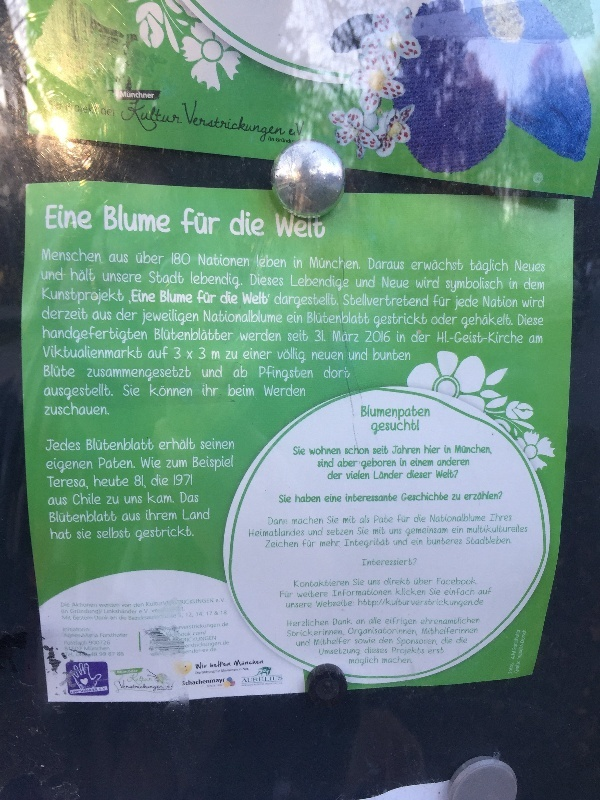text: (193, 96, 208, 138), (209, 96, 224, 138), (225, 96, 240, 138), (241, 96, 256, 138), (257, 96, 272, 138), (129, 99, 144, 139), (145, 99, 160, 139), (161, 99, 176, 139), (273, 96, 286, 138), (145, 623, 160, 659), (161, 623, 176, 659), (177, 623, 192, 659), (193, 623, 208, 659), (209, 623, 224, 659), (241, 206, 256, 241), (49, 200, 64, 234), (65, 200, 80, 234), (193, 204, 208, 238), (113, 204, 128, 237), (129, 204, 144, 237), (145, 204, 160, 237), (289, 210, 304, 242), (305, 210, 320, 242), (65, 626, 80, 658), (81, 626, 96, 658), (97, 626, 112, 658), (113, 626, 128, 658), (274, 210, 288, 242), (81, 200, 93, 234), (209, 204, 221, 238), (161, 204, 173, 237), (181, 204, 192, 238), (230, 206, 240, 241), (184, 96, 192, 138), (49, 98, 64, 120), (65, 98, 80, 120), (81, 98, 96, 120), (97, 98, 112, 120), (257, 206, 266, 241), (49, 245, 64, 266), (65, 245, 80, 266), (81, 245, 96, 266), (49, 324, 64, 345), (65, 324, 80, 345), (81, 324, 96, 345), (97, 324, 112, 345), (113, 324, 128, 345), (129, 324, 144, 345), (449, 256, 465, 275), (97, 382, 113, 401), (209, 251, 224, 271), (225, 251, 240, 271), (257, 251, 272, 271), (193, 270, 208, 290), (209, 270, 224, 290), (225, 270, 240, 290), (289, 290, 304, 310), (305, 290, 320, 310), (321, 290, 336, 310), (145, 307, 160, 327), (161, 307, 176, 327), (177, 307, 192, 327), (273, 364, 288, 384), (289, 364, 304, 384), (290, 117, 304, 138), (177, 249, 191, 270), (321, 254, 336, 273), (337, 254, 352, 273), (417, 256, 432, 275), (433, 256, 448, 275), (481, 257, 496, 276), (161, 269, 176, 288), (305, 273, 320, 292), (321, 273, 336, 292), (49, 286, 64, 305), (65, 286, 80, 305), (81, 286, 96, 305), (97, 286, 112, 305), (49, 382, 64, 401), (65, 382, 80, 401), (81, 382, 96, 401), (121, 99, 128, 139), (177, 99, 184, 139), (273, 251, 287, 271), (113, 250, 129, 267), (177, 288, 193, 305), (497, 313, 513, 330), (369, 255, 384, 273), (385, 255, 400, 273), (113, 269, 128, 287), (497, 293, 512, 311), (49, 344, 64, 362), (65, 344, 80, 362), (81, 344, 96, 362), (97, 344, 112, 362), (113, 344, 128, 362), (104, 204, 112, 237), (275, 290, 288, 310), (259, 364, 272, 384), (529, 276, 545, 292), (529, 295, 545, 311), (177, 383, 193, 399), (145, 455, 161, 471), (529, 259, 544, 276), (49, 267, 64, 284), (81, 267, 96, 284), (257, 273, 272, 290), (161, 288, 176, 305), (353, 291, 368, 308), (369, 291, 384, 308), (385, 291, 400, 308), (401, 291, 416, 308), (49, 305, 64, 322), (65, 305, 80, 322), (209, 308, 224, 325), (225, 308, 240, 325), (241, 308, 256, 325), (257, 308, 272, 325), (385, 312, 400, 329), (401, 312, 416, 329), (465, 313, 480, 330), (481, 313, 496, 330), (161, 326, 176, 343), (177, 326, 192, 343), (193, 326, 208, 343), (209, 326, 224, 343), (337, 328, 352, 345), (385, 347, 400, 364), (49, 363, 64, 380), (97, 366, 112, 383), (113, 366, 128, 383), (129, 366, 144, 383), (145, 366, 160, 383), (161, 366, 176, 383), (177, 366, 192, 383), (161, 436, 176, 453), (177, 436, 192, 453), (193, 455, 208, 472), (209, 455, 224, 472), (193, 506, 208, 523), (369, 403, 384, 420), (385, 403, 400, 420), (401, 403, 416, 420), (465, 295, 479, 313), (129, 344, 143, 362), (291, 273, 304, 292), (337, 273, 350, 292), (385, 275, 400, 291), (449, 277, 464, 293), (465, 277, 480, 293), (481, 277, 496, 293), (321, 310, 336, 326), (337, 310, 352, 326), (353, 310, 368, 326), (369, 329, 384, 345), (449, 329, 464, 345), (465, 329, 480, 345), (481, 329, 496, 345), (497, 329, 512, 345), (289, 348, 304, 364), (209, 364, 224, 380), (161, 383, 176, 399), (65, 438, 81, 453), (49, 457, 64, 473), (65, 457, 80, 473), (49, 475, 64, 491), (65, 475, 80, 491), (177, 473, 193, 488), (49, 509, 64, 525), (65, 509, 80, 525), (81, 509, 96, 525), (97, 509, 112, 525), (145, 526, 160, 542), (161, 526, 176, 542), (177, 526, 192, 542), (385, 420, 400, 436), (401, 420, 416, 436), (514, 259, 528, 276), (241, 382, 255, 399), (129, 269, 142, 287), (483, 293, 496, 311), (323, 364, 336, 382), (337, 364, 350, 382), (497, 257, 509, 276), (148, 269, 160, 288), (113, 286, 125, 305), (145, 251, 160, 266), (289, 329, 304, 344), (273, 384, 288, 399), (289, 384, 304, 399), (49, 402, 64, 417), (65, 402, 80, 417), (81, 402, 96, 417), (49, 438, 64, 453), (209, 438, 224, 453), (113, 456, 128, 471), (321, 210, 328, 242), (242, 291, 256, 307), (113, 474, 129, 488), (161, 509, 177, 523), (177, 607, 193, 621), (131, 288, 144, 305), (227, 382, 240, 399), (417, 403, 430, 420), (197, 251, 208, 271), (241, 251, 252, 271), (433, 294, 448, 308), (289, 311, 303, 326), (433, 313, 448, 327), (241, 330, 256, 344), (257, 330, 272, 344), (417, 330, 431, 345), (321, 349, 336, 363), (97, 438, 112, 452), (113, 438, 128, 452), (129, 438, 144, 452), (98, 456, 112, 471), (97, 474, 112, 488), (161, 490, 175, 505), (145, 509, 160, 523), (50, 526, 64, 541), (353, 490, 368, 504), (369, 490, 384, 504), (65, 607, 80, 621), (81, 607, 96, 621), (97, 607, 112, 621), (113, 607, 128, 621), (129, 607, 144, 621), (145, 607, 160, 621), (161, 607, 176, 621), (469, 257, 480, 276), (257, 291, 270, 307), (307, 310, 320, 326), (147, 345, 160, 361), (257, 348, 273, 361), (81, 457, 94, 473), (371, 420, 384, 436), (401, 555, 417, 568), (273, 273, 285, 290), (417, 291, 429, 308), (529, 313, 543, 327), (129, 88, 144, 101), (417, 277, 432, 290), (225, 290, 238, 305), (353, 349, 368, 362), (97, 402, 110, 417), (81, 493, 96, 506), (147, 490, 160, 505), (97, 528, 112, 541), (113, 528, 128, 541), (465, 443, 480, 456), (385, 468, 400, 481), (305, 492, 320, 505), (257, 527, 272, 540), (273, 527, 288, 540), (289, 527, 304, 540), (417, 525, 432, 538), (433, 525, 448, 538), (369, 555, 384, 568), (385, 555, 400, 568), (145, 596, 160, 609), (161, 596, 176, 609), (177, 596, 192, 609), (193, 596, 208, 609), (209, 596, 224, 609), (196, 289, 208, 305), (436, 329, 448, 345), (433, 490, 449, 502), (401, 626, 417, 638), (310, 254, 320, 273), (69, 267, 80, 284), (145, 288, 156, 305), (417, 312, 428, 329), (373, 347, 384, 364), (65, 363, 76, 380), (321, 457, 335, 470), (385, 490, 398, 504), (102, 269, 112, 287), (356, 275, 368, 290), (454, 295, 464, 313), (97, 310, 112, 322), (116, 307, 128, 322), (529, 334, 544, 346), (401, 444, 416, 456), (369, 458, 384, 470), (417, 456, 432, 468), (449, 457, 464, 469), (353, 470, 368, 482), (417, 490, 432, 502), (465, 490, 480, 502), (481, 490, 496, 502), (305, 578, 320, 590), (321, 578, 336, 590), (401, 597, 416, 609), (417, 597, 432, 609), (433, 597, 448, 609), (449, 597, 464, 609), (465, 597, 480, 609), (289, 617, 304, 629), (305, 617, 320, 629), (353, 626, 368, 638), (369, 626, 384, 638), (385, 626, 400, 638), (369, 645, 384, 657), (129, 680, 144, 692), (145, 680, 160, 692), (225, 623, 230, 659), (293, 255, 304, 271), (513, 329, 524, 345), (277, 348, 288, 364), (149, 383, 160, 399), (273, 516, 289, 527), (353, 254, 362, 273), (273, 308, 283, 325), (374, 312, 384, 329), (225, 326, 235, 343), (401, 347, 411, 364), (182, 506, 192, 523), (243, 348, 256, 361), (402, 490, 416, 502), (386, 597, 400, 609), (129, 384, 140, 399), (49, 496, 64, 507), (321, 445, 336, 456), (497, 511, 512, 522), (481, 525, 496, 536), (497, 525, 512, 536), (321, 538, 336, 549), (353, 538, 368, 549), (369, 538, 384, 549), (481, 536, 496, 547), (497, 536, 512, 547), (385, 576, 400, 587), (449, 576, 464, 587), (401, 586, 416, 597), (401, 646, 416, 657), (305, 364, 313, 384), (353, 446, 369, 456), (401, 617, 417, 627), (211, 349, 224, 361), (180, 491, 192, 504), (435, 469, 448, 481), (337, 578, 350, 590), (517, 313, 528, 327), (226, 350, 240, 361), (129, 494, 143, 505), (81, 526, 92, 540), (338, 458, 352, 469), (466, 525, 480, 536), (513, 525, 527, 536), (466, 536, 480, 547), (465, 576, 479, 587), (343, 291, 352, 308), (87, 366, 96, 383), (225, 455, 234, 472), (177, 269, 185, 288), (209, 383, 219, 398), (225, 438, 235, 453), (417, 469, 432, 479), (305, 516, 320, 526), (433, 513, 448, 523), (449, 513, 464, 523), (465, 513, 480, 523), (273, 540, 288, 550), (433, 537, 448, 547), (353, 577, 368, 587), (337, 588, 352, 598), (353, 588, 368, 598), (369, 588, 384, 598), (289, 600, 304, 610), (337, 617, 352, 627), (385, 617, 400, 627), (321, 637, 336, 647), (401, 637, 416, 647), (417, 637, 432, 647), (321, 646, 336, 656), (337, 646, 352, 656), (353, 656, 368, 666), (41, 245, 48, 266), (41, 324, 48, 345), (401, 275, 410, 291), (135, 526, 144, 542), (436, 457, 448, 469), (337, 528, 353, 537), (417, 578, 433, 587), (161, 680, 173, 692), (209, 677, 225, 686), (177, 458, 188, 471), (481, 443, 492, 456), (451, 491, 464, 502), (451, 525, 464, 536), (193, 307, 200, 327), (86, 438, 96, 452), (134, 475, 144, 489), (449, 537, 463, 547), (337, 637, 351, 647), (135, 251, 144, 266), (129, 307, 138, 322), (199, 345, 208, 360), (263, 384, 272, 399), (151, 473, 160, 488), (305, 590, 320, 599), (449, 588, 464, 597), (321, 599, 336, 608), (337, 599, 352, 608), (433, 617, 448, 626), (449, 617, 464, 626), (465, 617, 480, 626), (289, 629, 304, 638), (305, 629, 320, 638), (321, 629, 336, 638), (433, 626, 448, 635), (449, 626, 464, 635), (193, 677, 208, 686), (241, 658, 256, 667), (129, 511, 140, 523), (293, 444, 304, 456), (385, 458, 396, 470), (308, 527, 320, 538), (369, 577, 381, 588), (145, 88, 155, 101), (166, 458, 176, 471), (454, 443, 464, 456), (374, 468, 384, 481), (291, 516, 304, 526), (406, 525, 416, 538), (209, 289, 217, 305), (161, 345, 169, 361), (241, 364, 249, 380), (81, 475, 89, 491), (97, 245, 103, 266), (170, 249, 176, 270), (449, 313, 458, 327), (273, 330, 282, 344), (311, 349, 320, 363), (145, 438, 154, 452), (309, 445, 320, 456), (325, 493, 336, 504), (437, 576, 448, 587), (357, 598, 368, 609), (276, 135, 288, 145), (200, 438, 208, 453), (161, 473, 169, 488), (449, 469, 459, 481), (372, 526, 384, 536), (294, 578, 304, 590), (369, 618, 384, 626), (385, 657, 400, 665), (81, 687, 96, 695), (129, 676, 144, 684), (118, 680, 128, 692), (41, 267, 48, 284), (41, 305, 48, 322), (81, 305, 88, 322), (361, 403, 368, 420), (279, 492, 288, 505), (295, 492, 304, 505), (465, 626, 478, 635), (42, 286, 48, 305), (497, 277, 504, 293), (233, 364, 240, 380), (81, 602, 97, 609), (210, 661, 224, 669), (374, 514, 384, 525), (401, 513, 411, 524), (357, 526, 368, 536), (327, 470, 336, 482), (327, 514, 336, 526), (417, 511, 426, 523), (481, 588, 493, 597), (420, 617, 432, 626), (433, 647, 445, 656), (369, 275, 376, 290), (129, 456, 136, 471), (65, 526, 72, 541), (209, 669, 224, 676), (225, 669, 240, 676), (209, 610, 224, 617), (120, 88, 128, 101), (72, 493, 80, 506), (45, 200, 48, 234), (250, 273, 256, 290), (154, 326, 160, 343), (353, 328, 359, 345), (406, 469, 416, 479), (289, 540, 299, 550), (369, 656, 379, 666), (373, 446, 384, 455), (389, 527, 400, 536), (305, 539, 316, 548), (401, 576, 410, 587), (417, 586, 426, 597), (369, 598, 378, 609), (421, 626, 432, 635), (417, 646, 426, 657), (337, 349, 344, 363), (345, 490, 352, 504), (354, 637, 368, 644), (522, 295, 528, 311), (385, 329, 391, 345), (202, 364, 208, 380), (392, 444, 400, 456), (424, 443, 432, 455), (433, 443, 441, 455), (321, 617, 329, 629), (411, 256, 416, 275), (433, 277, 440, 290), (113, 494, 120, 507), (193, 491, 200, 504), (249, 527, 256, 540), (361, 555, 368, 568), (513, 293, 518, 311), (314, 330, 320, 345), (43, 344, 48, 362), (202, 383, 208, 398), (465, 588, 475, 597), (241, 676, 256, 682), (257, 676, 272, 682), (385, 514, 393, 525), (280, 589, 288, 600), (392, 646, 400, 657), (401, 657, 412, 665), (97, 687, 108, 695), (203, 308, 208, 325), (401, 331, 407, 345), (361, 458, 368, 470), (356, 619, 368, 626), (196, 669, 208, 676), (98, 603, 112, 609), (196, 610, 208, 617), (343, 516, 352, 525), (327, 528, 336, 537), (385, 637, 394, 646), (183, 677, 192, 686), (360, 514, 368, 524), (305, 600, 313, 610), (456, 636, 464, 646), (353, 646, 361, 656), (106, 494, 112, 507), (195, 663, 208, 669), (345, 538, 352, 549), (417, 537, 424, 548), (44, 382, 48, 401), (161, 251, 166, 266), (321, 330, 326, 345), (411, 330, 416, 345), (177, 346, 182, 361), (123, 384, 128, 399), (401, 255, 405, 273), (122, 511, 128, 523), (401, 457, 407, 469), (410, 456, 416, 468), (337, 470, 343, 482), (346, 470, 352, 482), (497, 490, 503, 502), (321, 590, 329, 599), (296, 639, 304, 648), (71, 687, 80, 695), (116, 669, 128, 675), (513, 277, 518, 291), (345, 446, 352, 456), (385, 588, 392, 598), (441, 636, 448, 646), (44, 363, 48, 380), (337, 493, 343, 504), (490, 511, 496, 522), (524, 276, 528, 292), (140, 455, 144, 471), (113, 509, 117, 525), (417, 420, 421, 436), (145, 676, 153, 684), (62, 626, 64, 658), (145, 324, 148, 345), (297, 590, 304, 599), (433, 588, 440, 597), (337, 629, 344, 638), (257, 658, 264, 667), (189, 270, 192, 290), (220, 290, 224, 305), (305, 329, 309, 344), (44, 402, 48, 417), (465, 457, 470, 469), (481, 513, 487, 523), (266, 540, 272, 550), (426, 537, 432, 547), (314, 637, 320, 647), (129, 669, 139, 675), (241, 684, 256, 688), (257, 684, 272, 688), (209, 685, 224, 689), (134, 602, 144, 608), (396, 331, 400, 345), (393, 538, 400, 546), (401, 538, 408, 546), (72, 602, 80, 609), (337, 445, 342, 456), (353, 458, 358, 469), (385, 538, 390, 549), (411, 537, 416, 548), (289, 589, 294, 600), (305, 639, 311, 648), (273, 676, 282, 682), (234, 658, 240, 667), (97, 493, 101, 506), (289, 492, 293, 505), (109, 250, 112, 267), (461, 313, 464, 330), (333, 328, 336, 345), (193, 436, 196, 453), (289, 135, 294, 145), (433, 637, 438, 647), (449, 636, 454, 646), (369, 637, 376, 644), (241, 669, 248, 676), (121, 602, 128, 609), (92, 310, 96, 322), (365, 329, 368, 345), (417, 444, 421, 456), (444, 443, 448, 455), (481, 597, 485, 609), (348, 626, 352, 638), (364, 645, 368, 657), (225, 661, 231, 669), (173, 346, 176, 361), (173, 473, 176, 488), (379, 637, 384, 646), (113, 98, 115, 120), (124, 494, 128, 505), (268, 516, 272, 527), (337, 538, 341, 549), (396, 586, 400, 597), (273, 684, 284, 688), (509, 277, 512, 291), (93, 474, 96, 488), (77, 526, 80, 540), (61, 607, 64, 621), (241, 270, 243, 290), (337, 290, 339, 310), (142, 307, 144, 327), (332, 588, 336, 598), (349, 349, 352, 362), (317, 457, 320, 470), (449, 443, 452, 455), (444, 588, 448, 597), (316, 599, 320, 608), (385, 645, 388, 657), (428, 647, 432, 656), (113, 603, 119, 609), (397, 513, 400, 524), (321, 527, 324, 538), (382, 275, 384, 291), (446, 277, 448, 293), (369, 310, 371, 326), (46, 457, 48, 473), (46, 475, 48, 491), (305, 384, 307, 399), (46, 438, 48, 453), (321, 516, 324, 526), (333, 617, 336, 627), (397, 637, 400, 647), (465, 636, 468, 646), (349, 656, 352, 666), (65, 602, 70, 608), (449, 294, 451, 308), (385, 446, 388, 455), (353, 516, 356, 525), (413, 578, 416, 587), (429, 588, 432, 597), (129, 528, 131, 541), (401, 468, 403, 481), (225, 596, 227, 609), (337, 514, 339, 526), (414, 511, 416, 523), (202, 685, 208, 689), (65, 496, 67, 507), (305, 117, 306, 138), (129, 602, 132, 609), (430, 513, 432, 523), (286, 600, 288, 610), (401, 527, 403, 536), (478, 588, 480, 597), (353, 599, 355, 608), (61, 602, 64, 608), (545, 259, 546, 276), (159, 436, 160, 453), (209, 506, 210, 523), (305, 348, 306, 364), (193, 526, 194, 542), (382, 657, 384, 665), (287, 311, 288, 326), (431, 313, 432, 327), (145, 475, 146, 489), (225, 610, 227, 617), (415, 277, 416, 290), (321, 492, 322, 505), (270, 137, 272, 143), (273, 137, 275, 143), (433, 456, 434, 468), (369, 470, 370, 482), (287, 617, 288, 629), (319, 538, 320, 549), (367, 577, 368, 588), (369, 514, 370, 524), (385, 526, 386, 536), (319, 646, 320, 656), (303, 539, 304, 548), (287, 629, 288, 638), (127, 676, 128, 684), (225, 685, 226, 689)
